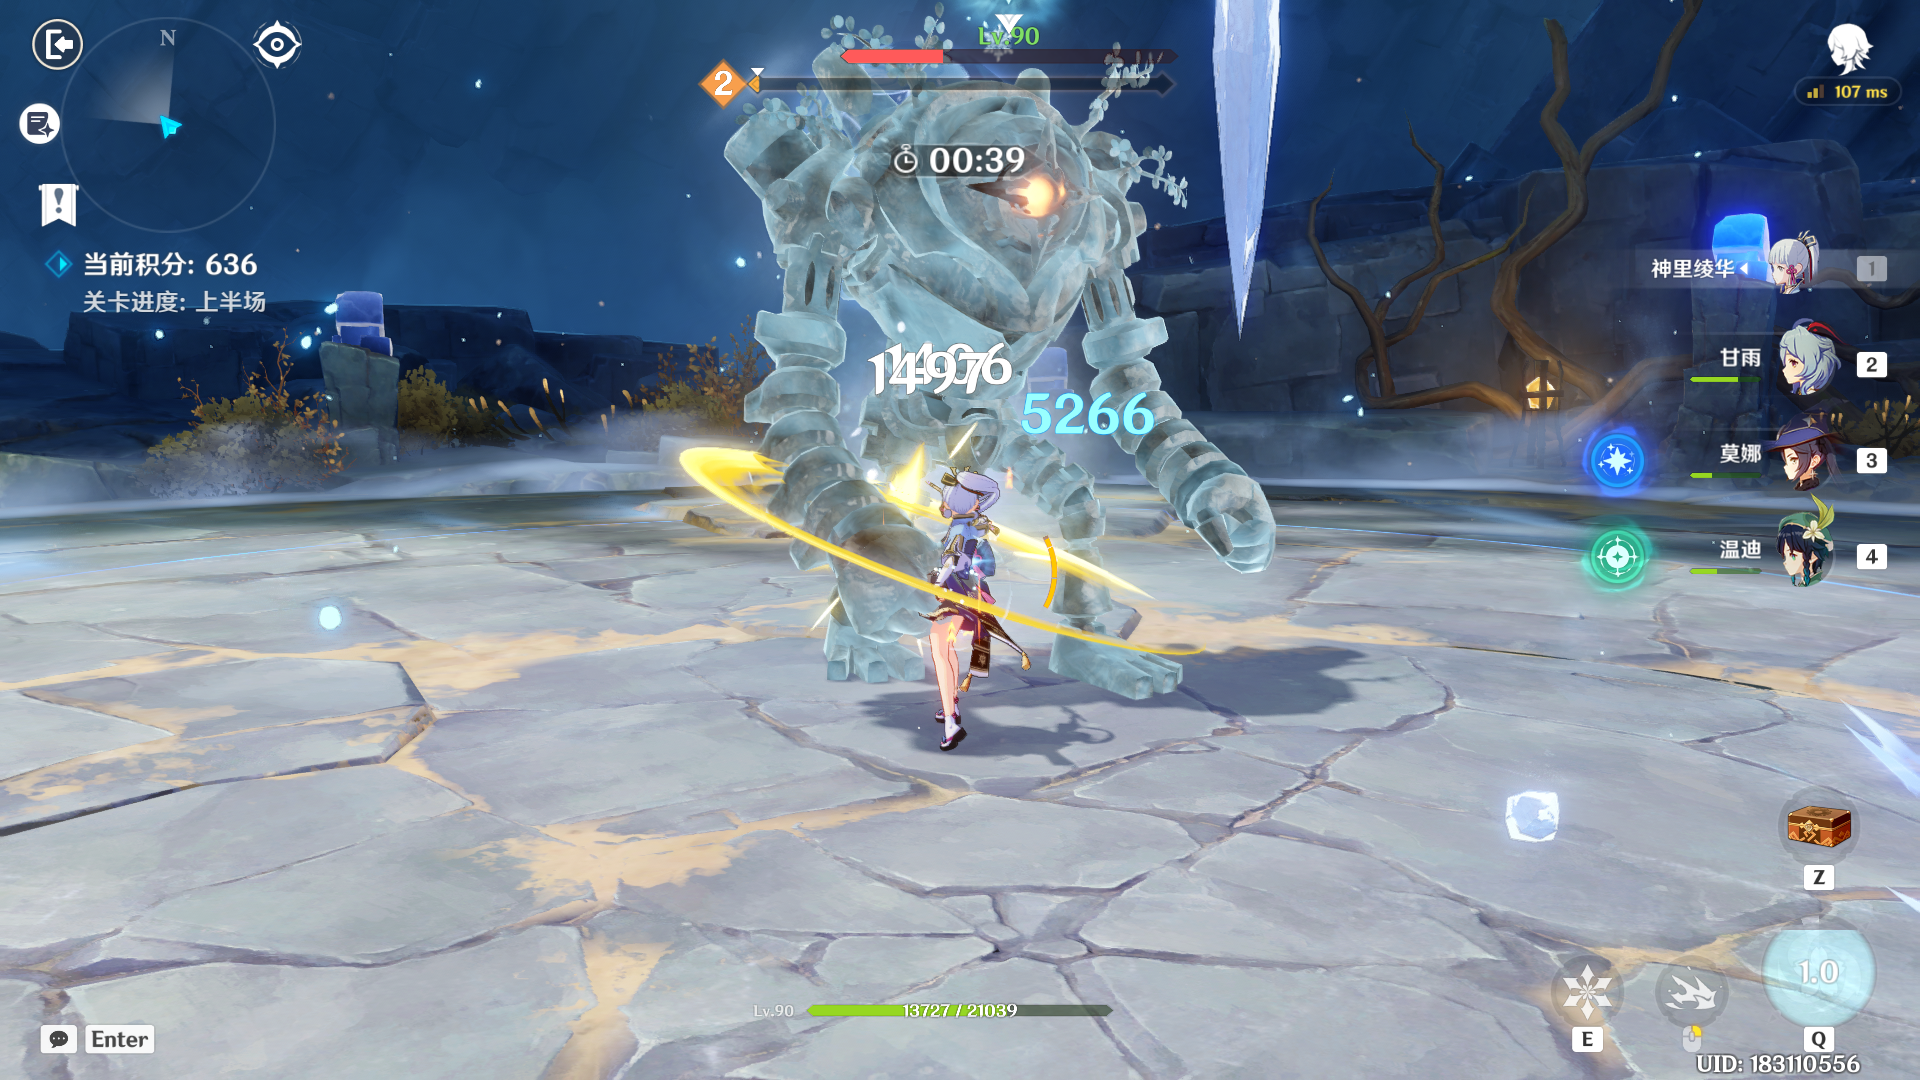character: (876, 448, 1054, 800)
